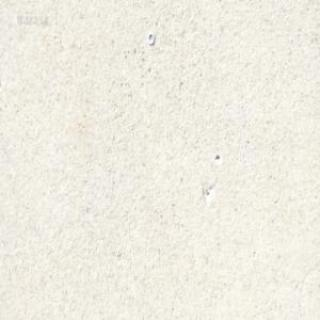Washertrack_idkeyframe: (146, 31, 154, 44)
